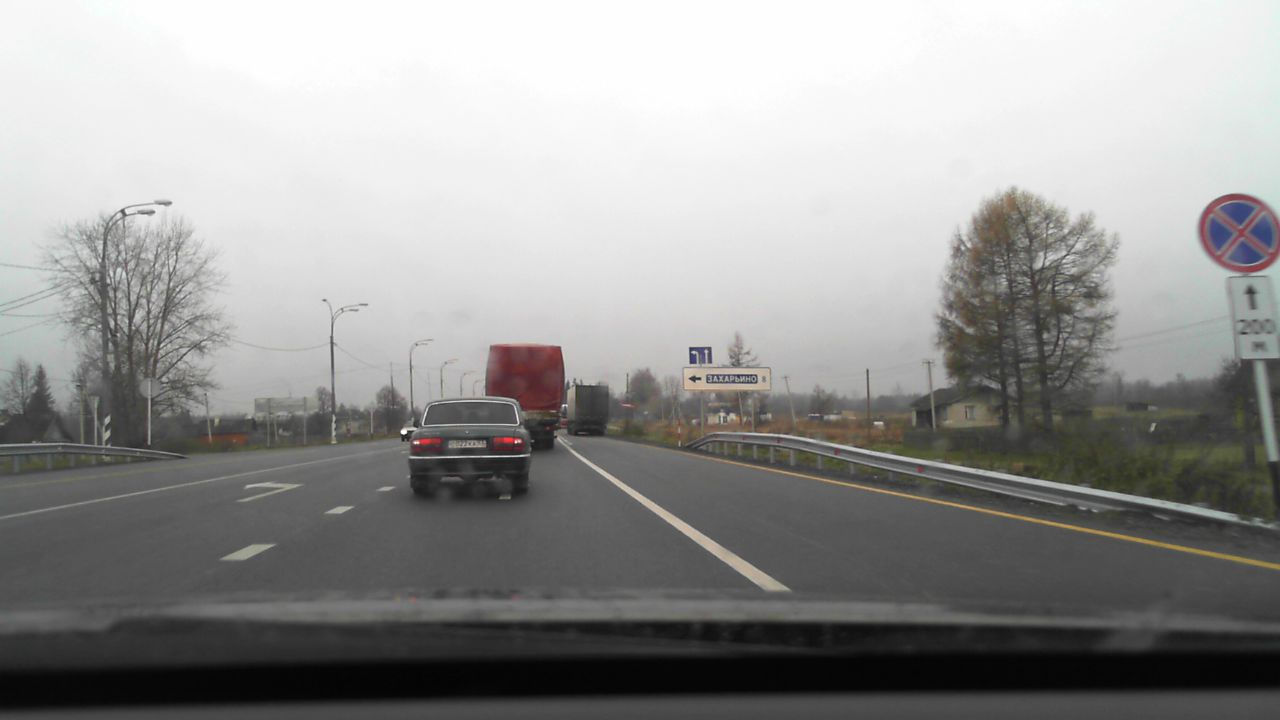No Parking: (1197, 193, 1279, 274)
